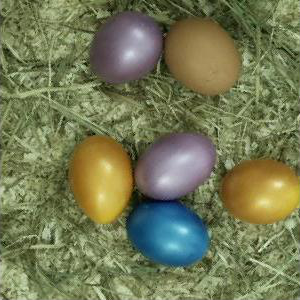egg: (68, 136, 135, 226), (164, 18, 240, 95), (136, 132, 217, 201), (128, 201, 211, 268), (221, 160, 300, 223), (93, 12, 163, 82)
